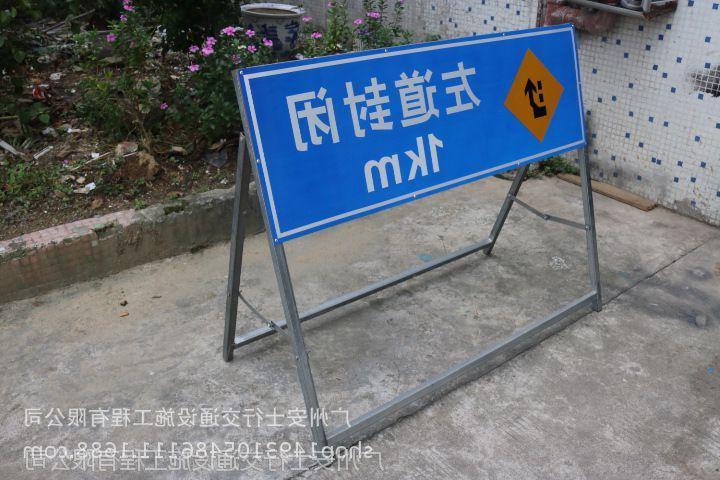sign: (235, 25, 593, 242)
